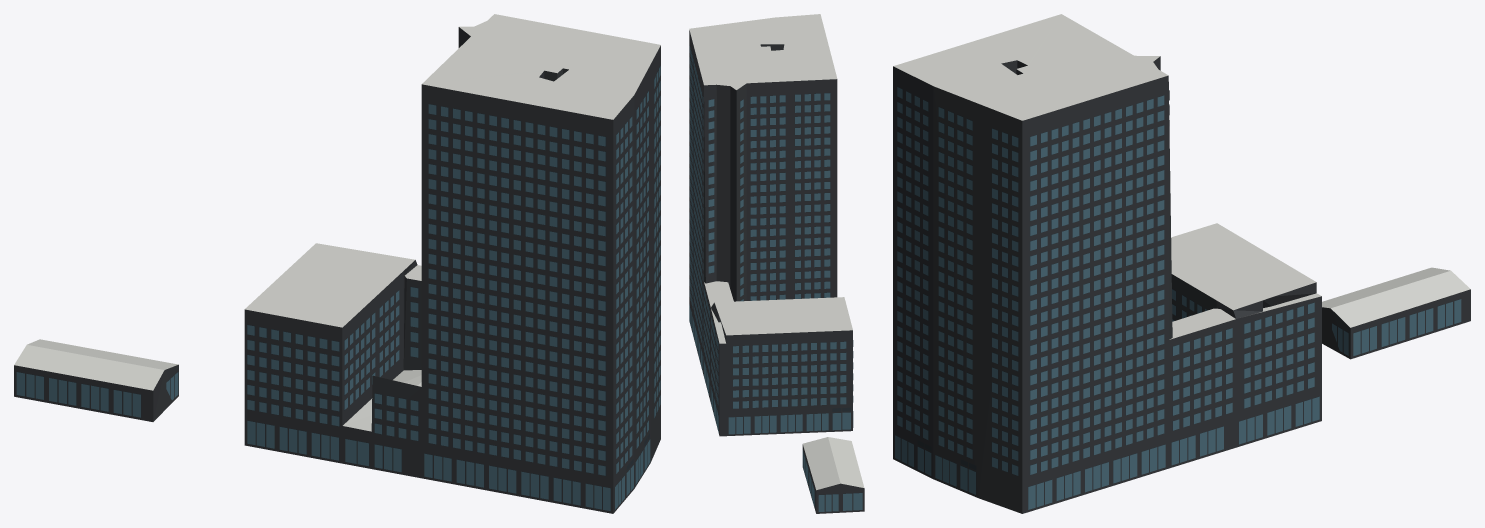
File: bercylaan-801-855.lod2.glb
3 views of the same model, side by side, from view 1: azimuth 30°, elevation 25°; view 2: azimuth 150°, elevation 25°; view 3: azimuth 270°, elevation 25° (orthographic). The views are drawn at different scales.
Parts seen in each view (by area): view 1: lod2; view 2: lod2; view 3: lod2.
Part boxes in pixels (x1=…): lod2: x1=14, y1=14, x2=660, y2=513; lod2: x1=689, y1=14, x2=864, y2=513; lod2: x1=893, y1=14, x2=1470, y2=513.
Size of the model in its own units: 92.63 by 78.98 by 105.
